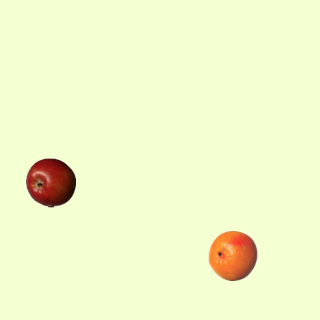Apple Braeburn: (25, 157, 75, 207)
Grapefruit Pink: (207, 230, 257, 280)
